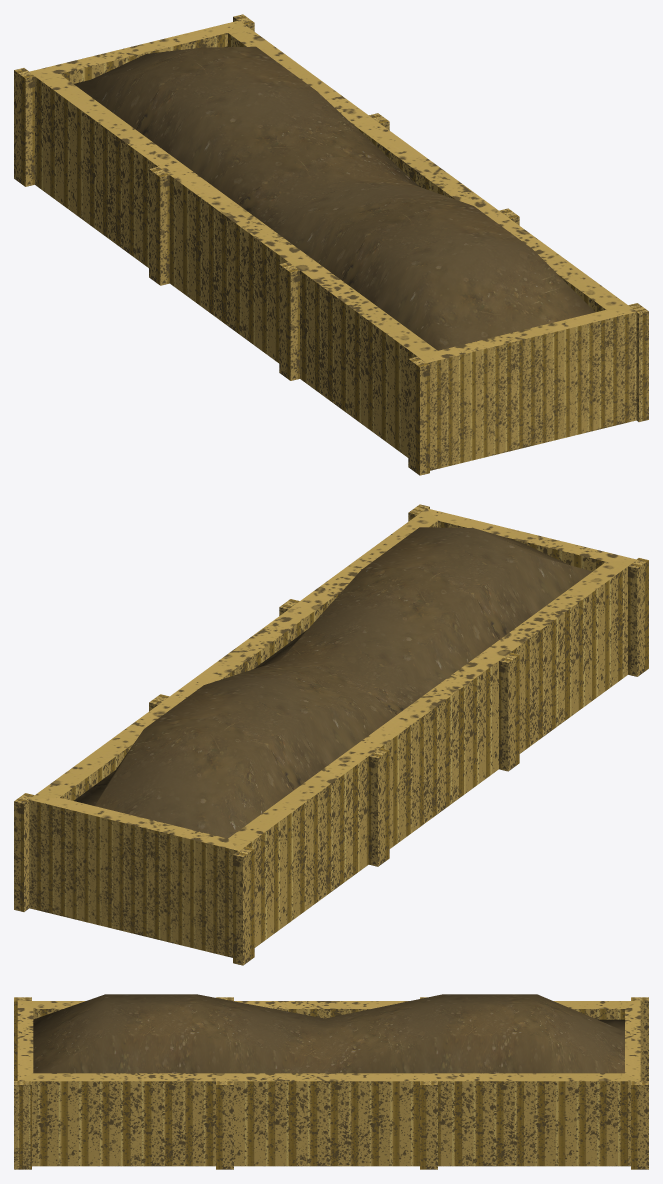
File: Box_Terrain.fbx
3 renders of one model, top to bottom at view 1: azimuth 30°, elevation 25°; view 2: azimuth 150°, elevation 25°; view 3: azimuth 270°, elevation 25°, orthographic. The views are drawn at different scales.
Visible parts, largest first — view 1: Box, Terrain1; view 2: Box, Terrain1; view 3: Box, Terrain1.
Boxes of the visible parts, x1=… form: Box: x1=14, y1=14, x2=648, y2=475; Terrain1: x1=74, y1=46, x2=594, y2=350; Box: x1=14, y1=504, x2=648, y2=965; Terrain1: x1=74, y1=527, x2=592, y2=838; Box: x1=14, y1=997, x2=648, y2=1169; Terrain1: x1=33, y1=994, x2=624, y2=1073.
Size of the model in its own units: 336 by 217 by 1030.
